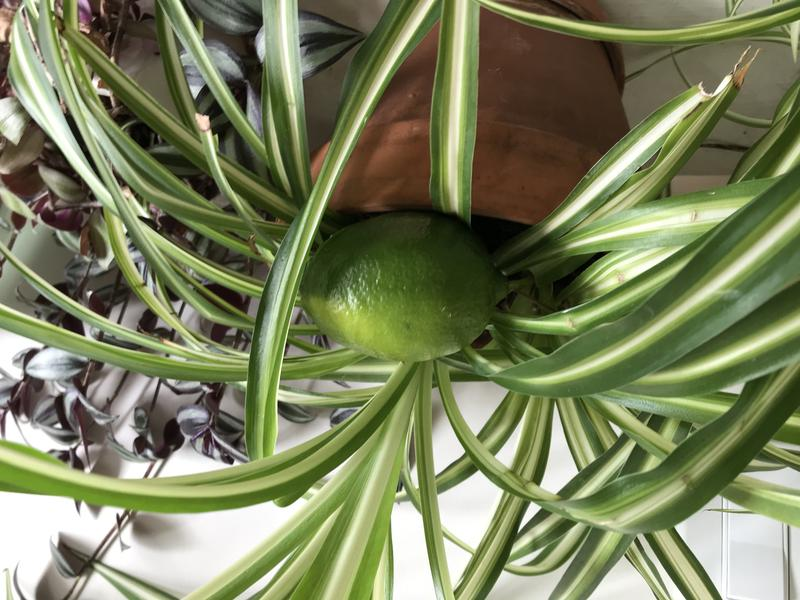lime: (289, 204, 518, 373)
